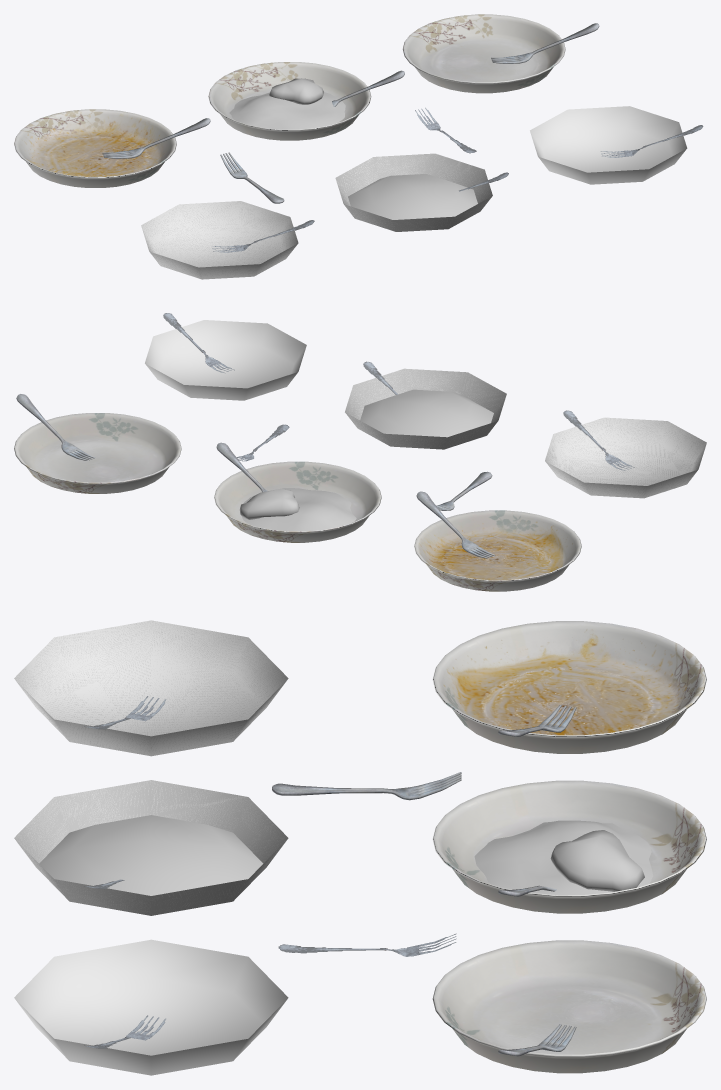
The model's file is Meal.fbx.
3 views of the same model, one above another, from view 1: azimuth 30°, elevation 25°; view 2: azimuth 150°, elevation 25°; view 3: azimuth 270°, elevation 25° (orthographic). The views are drawn at different scales.
Parts seen in each view (by area): view 1: Plate, PlateDirty, PlateFood, PlatePSX, PlateDirtyPSX, PlateFoodPSX, Fork; view 2: PlateDirty, PlateFood, Plate, PlateDirtyPSX, PlateFoodPSX, PlatePSX; view 3: PlateFood, Plate, PlateDirty, PlateDirtyPSX, PlatePSX, PlateFoodPSX, Fork, ForkPSX.
Part boxes in pixels (x1,y1,x2,y2): Plate: (402, 14, 599, 93); PlateDirty: (14, 109, 210, 187); PlateFood: (208, 62, 404, 140); PlatePSX: (530, 106, 703, 184); PlateDirtyPSX: (141, 201, 314, 279); PlateFoodPSX: (335, 153, 508, 231); Fork: (220, 152, 284, 203); PlateDirty: (414, 491, 581, 591); PlateFood: (214, 442, 381, 542); Plate: (14, 394, 181, 493); PlateDirtyPSX: (545, 410, 706, 498); PlateFoodPSX: (345, 361, 506, 449); PlatePSX: (145, 313, 306, 400); PlateFood: (432, 780, 706, 913); Plate: (432, 940, 706, 1073); PlateDirty: (432, 621, 706, 753); PlateDirtyPSX: (14, 620, 288, 756); PlatePSX: (14, 939, 288, 1075); PlateFoodPSX: (14, 780, 288, 915); Fork: (272, 772, 461, 800); ForkPSX: (278, 933, 456, 956).
Size of the model in its own units: 186 by 11.78 by 119.
